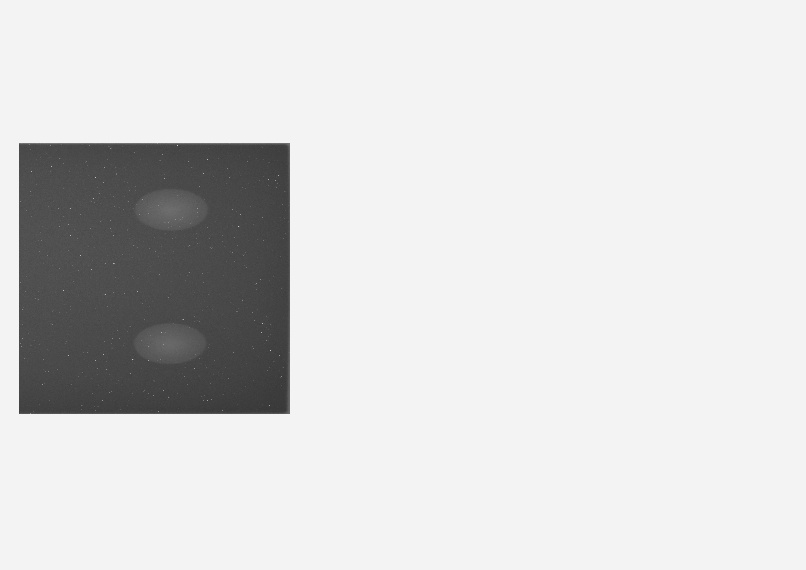bubble: (133, 187, 209, 230), (133, 322, 208, 364)
